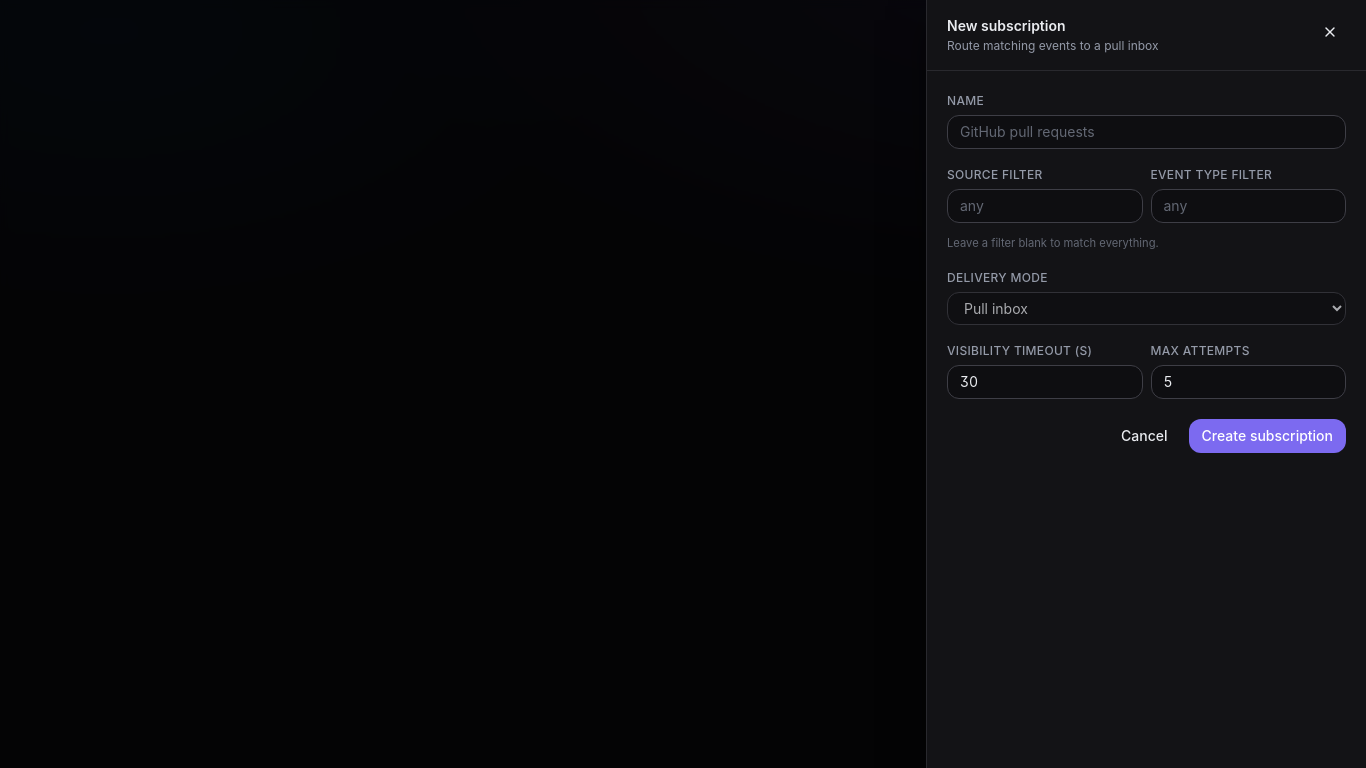
SubscriptionFormDrawer › requires a name before creating
The image size is (1366, 768).
Click the button "Create subscription".
click(1267, 436)  # box [1189,419,1346,453]
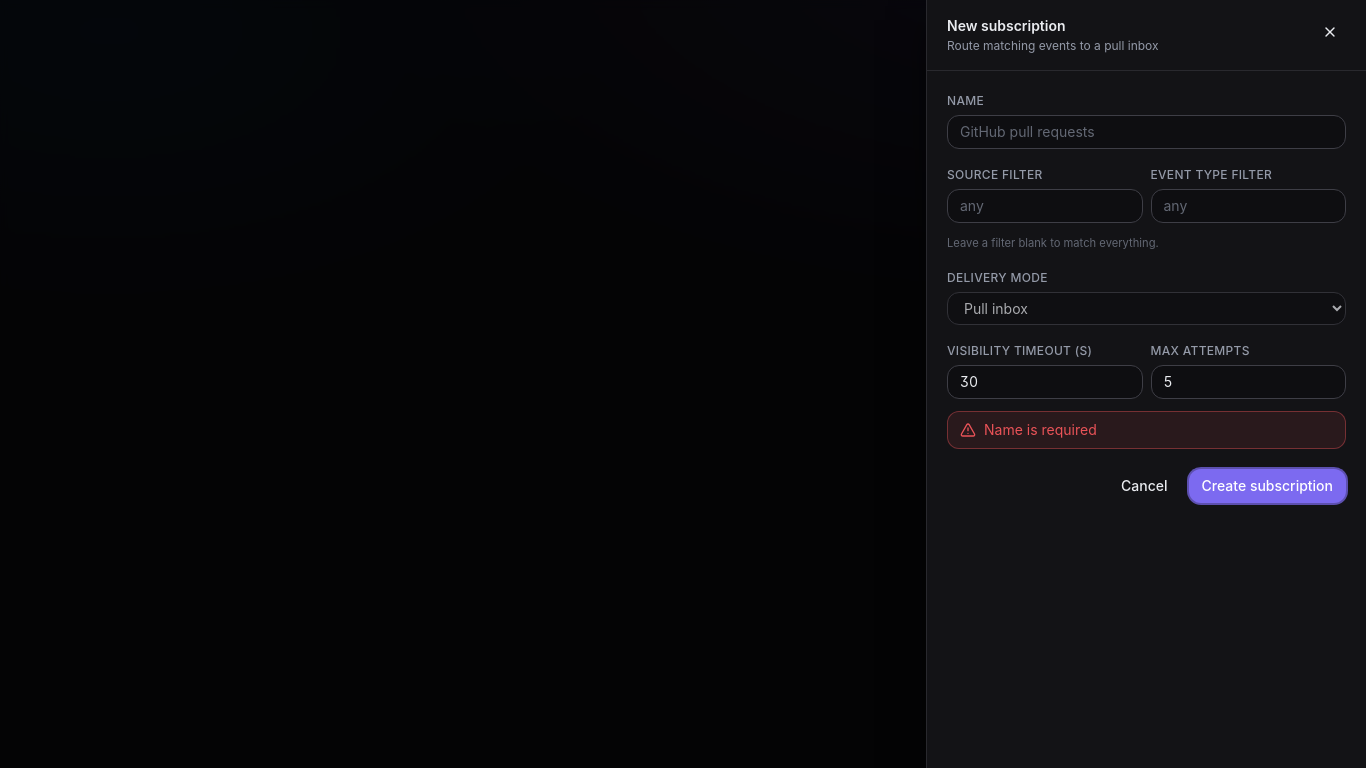
expect the text "Name is required" is shown: met, box [984,421,1097,438]
